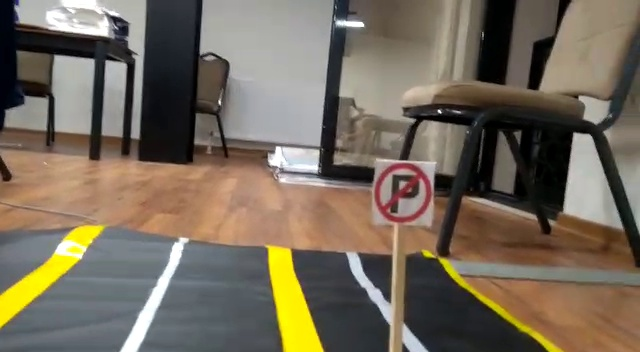park_yapilmaz: (371, 155, 437, 231)
